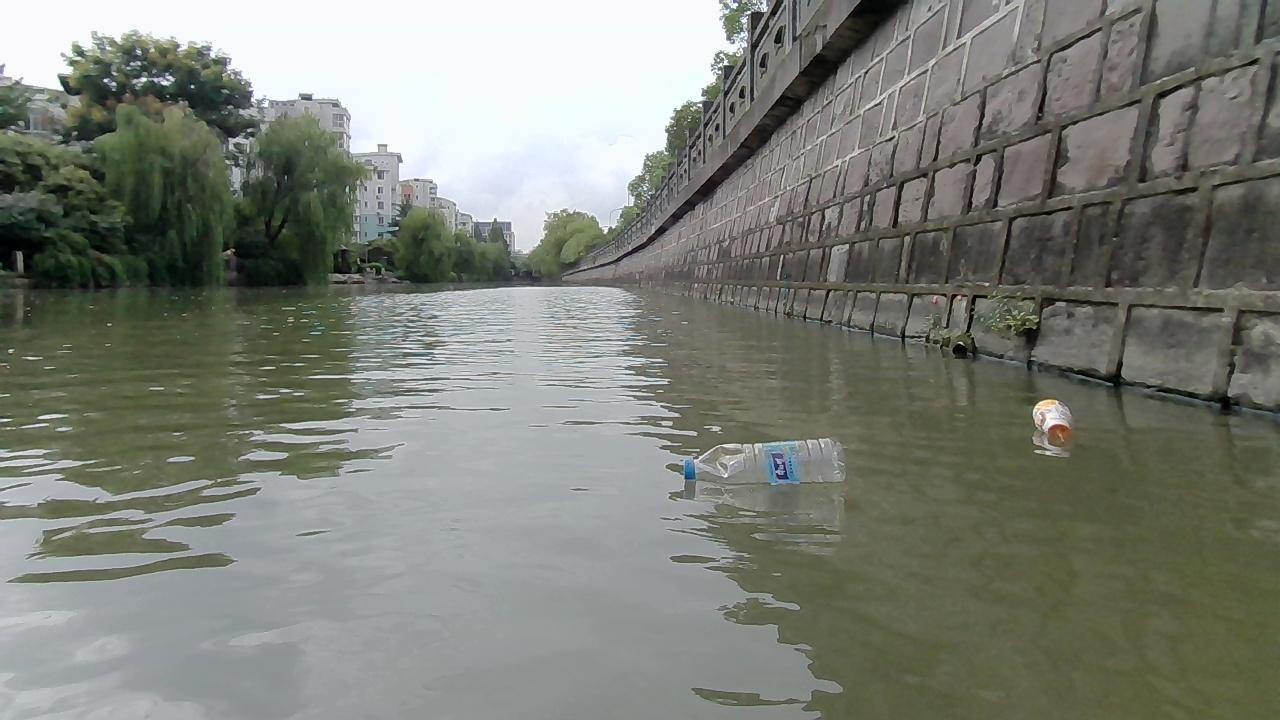bottle: (684, 435, 849, 484), (1031, 396, 1074, 438)
